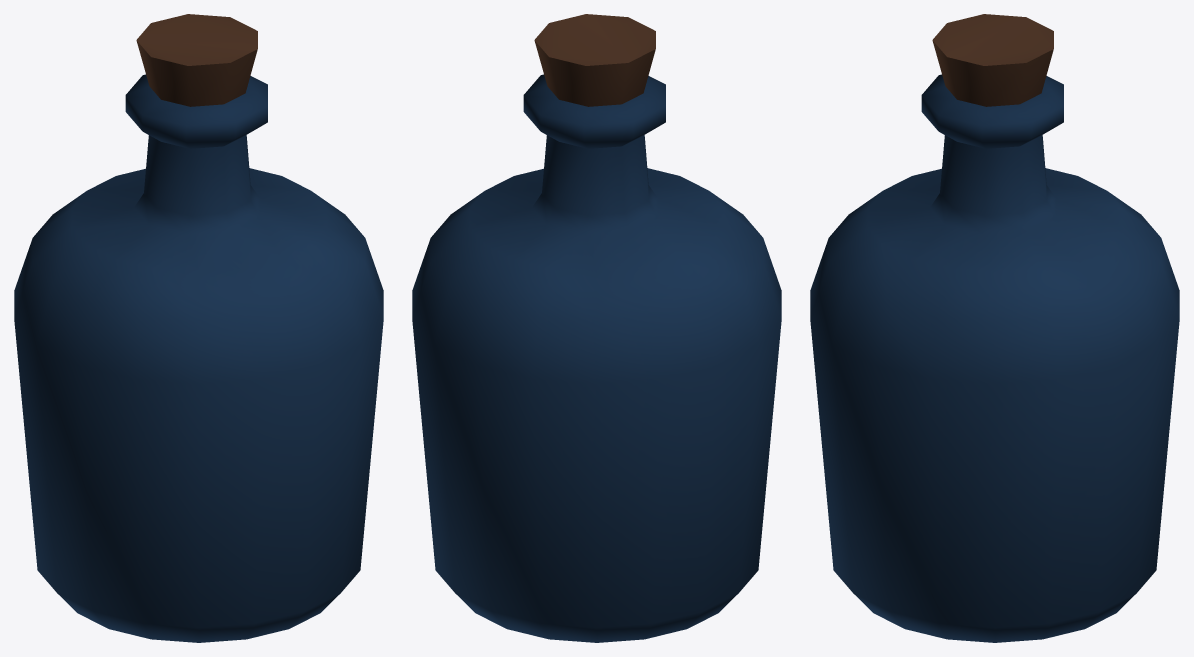
File: obj_bottle_B.FBX
The picture shows the model from 3 angles, left to right: view 1: azimuth 30°, elevation 25°; view 2: azimuth 150°, elevation 25°; view 3: azimuth 270°, elevation 25°; orthographic projection.
Visible parts, largest first — view 1: obj_bottle_B; view 2: obj_bottle_B; view 3: obj_bottle_B.
Boxes of the visible parts, bbox=[...] form: obj_bottle_B: bbox=[14, 14, 383, 642]; obj_bottle_B: bbox=[412, 14, 781, 642]; obj_bottle_B: bbox=[810, 14, 1179, 642].
Bounding box in the file's own units: 0.5658 × 0.9044 × 0.5572.
